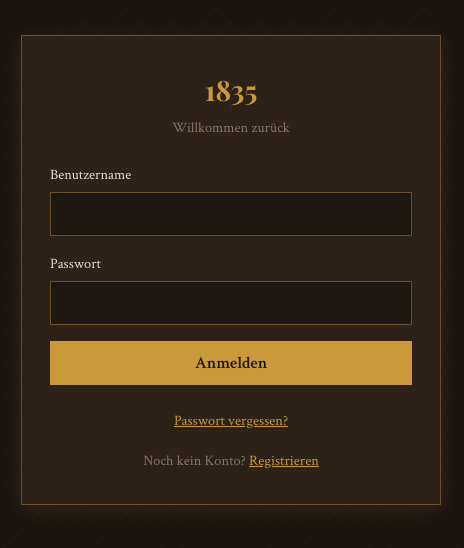
LoginPage › zeigt Fehlermeldung wenn API 401 zurückgibt
In the field labelled "Benutzername": (231, 214) [50,192,412,236], type "test"
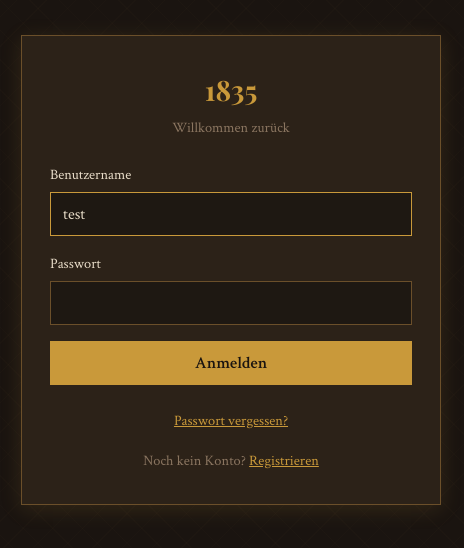
In the password field labelled "Passwort": (231, 303) [50,281,412,325], type "wrong"
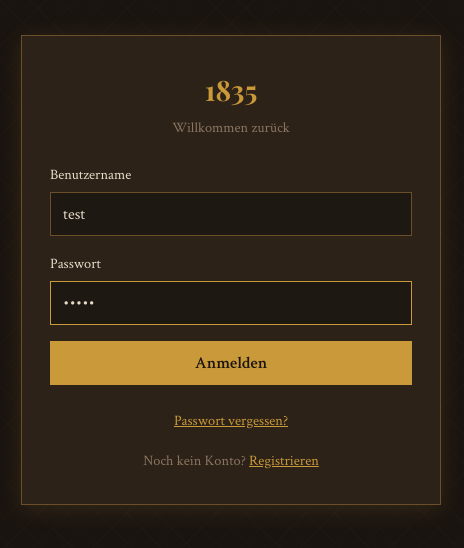
Click the button "Anmelden": (231, 363) [50,341,412,385]
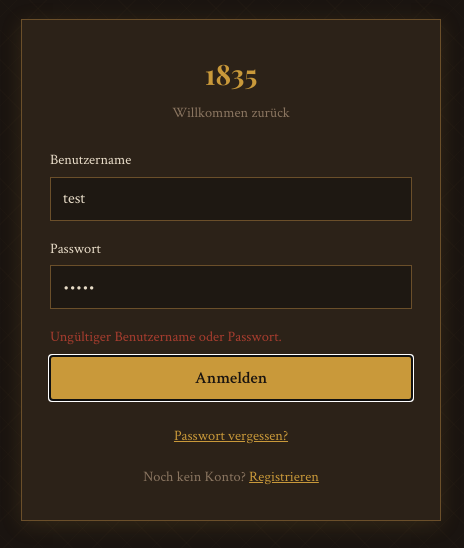
Expected: the text "Ungültiger Benutzername oder Passwort." is shown, [50,327,282,346]
